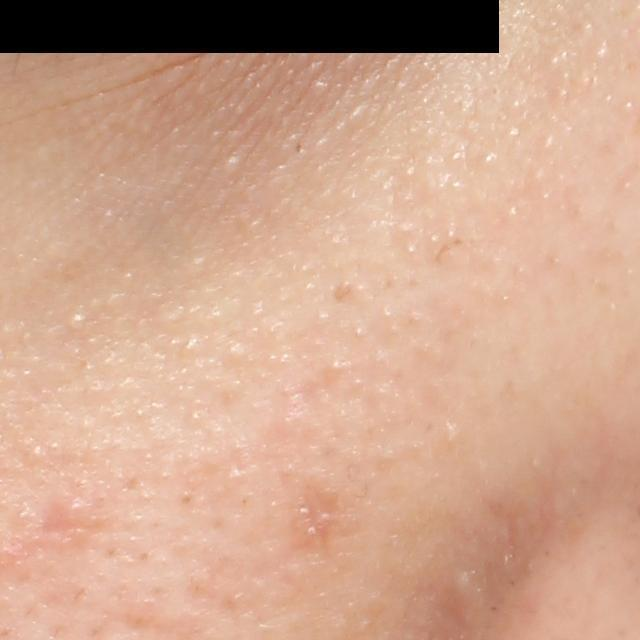atrophic_scar: (296, 477, 340, 540)
